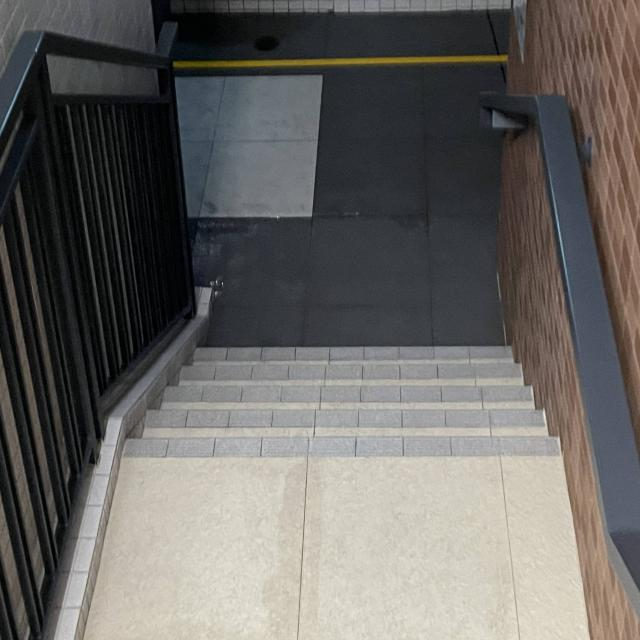Stairs: (121, 310, 580, 510)
